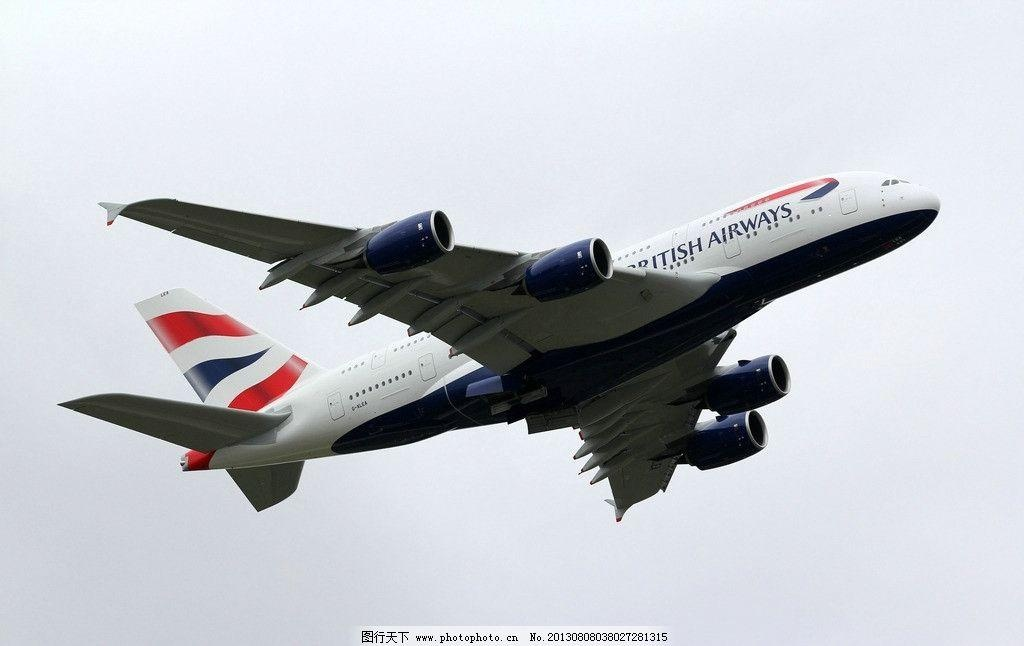airplane: (51, 166, 933, 516)
